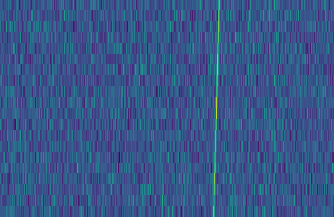signal: (209, 0, 224, 217)
